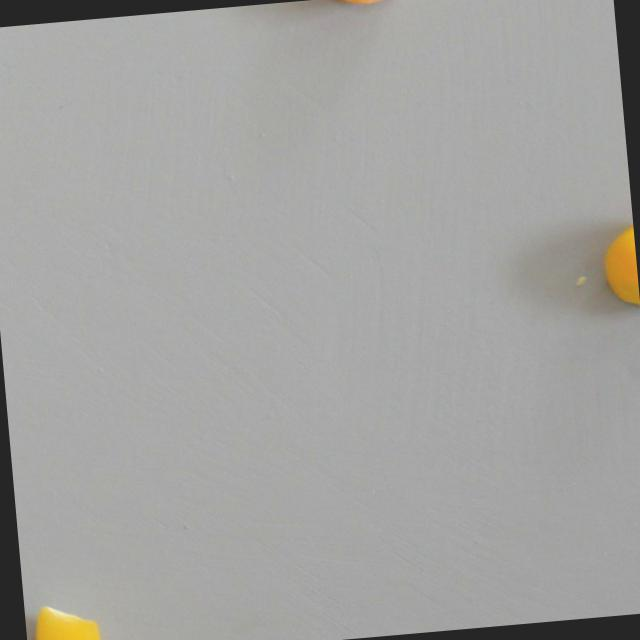estandar: (27, 599, 102, 640)
no_canjicado: (600, 214, 640, 315), (315, 0, 410, 9)
